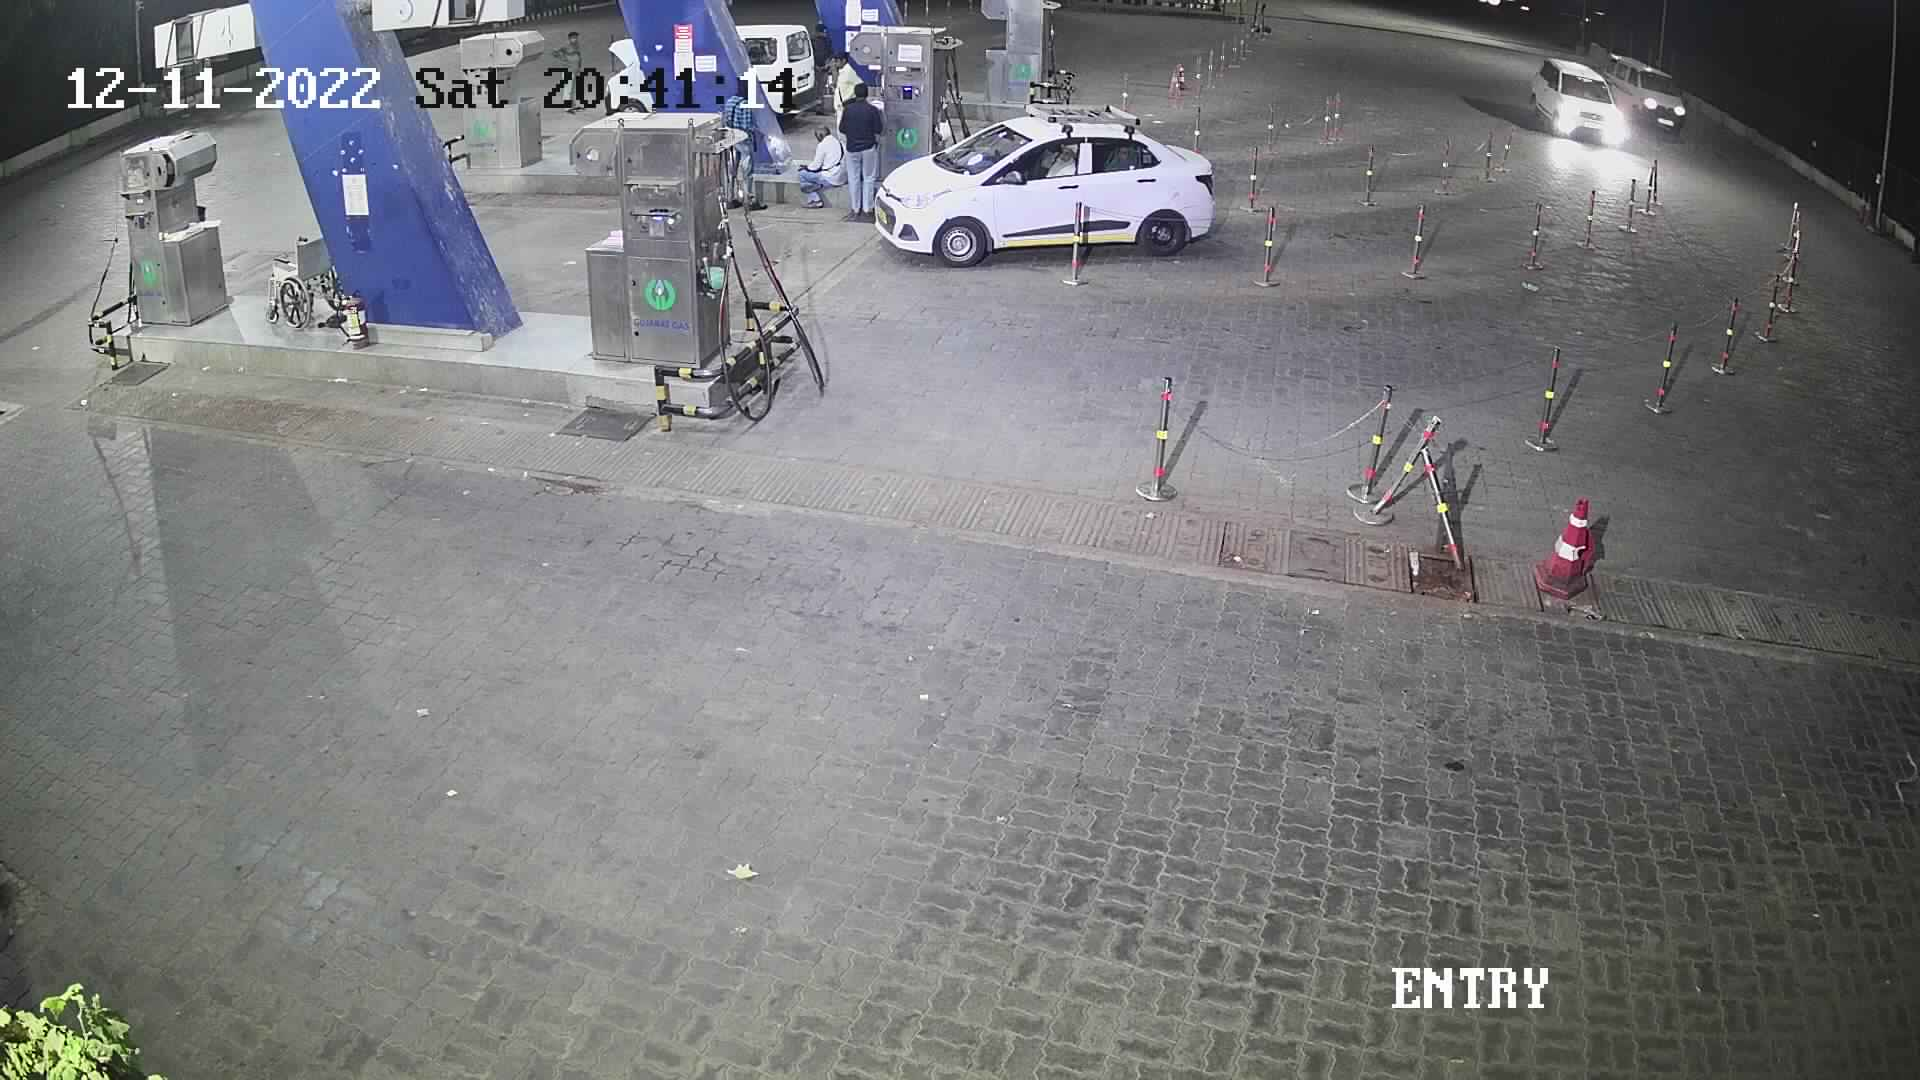Car: (864, 96, 1222, 276), (1527, 45, 1639, 154), (731, 15, 829, 132), (1596, 47, 1698, 138)
